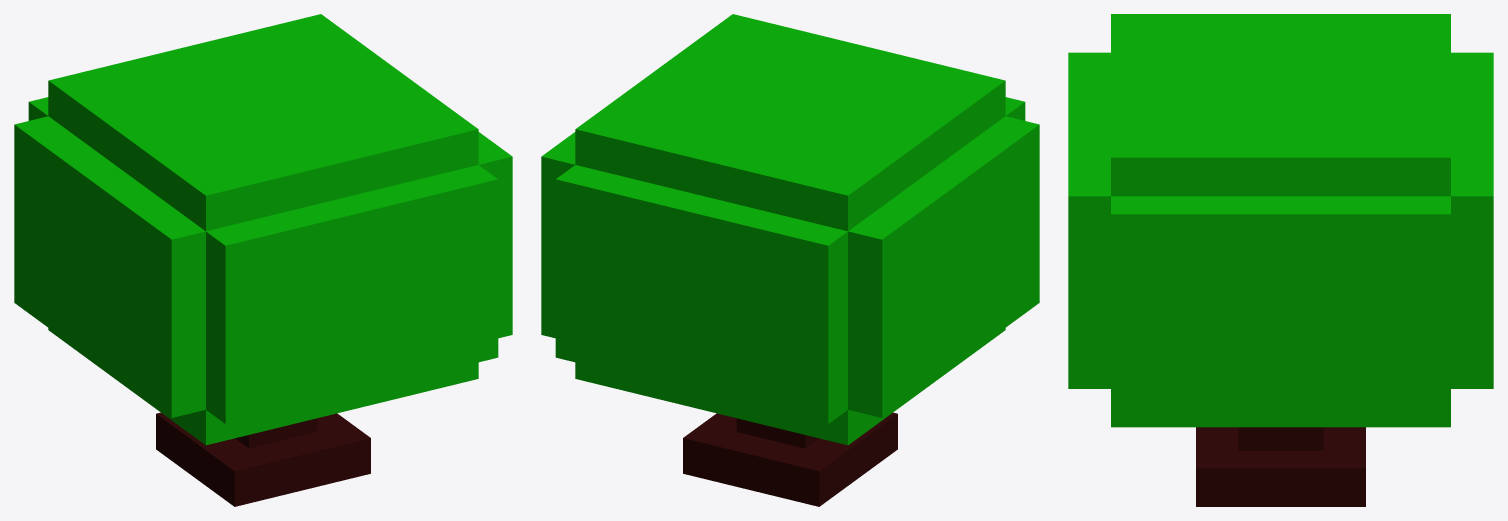
File: Bush_0.fbx
3 renders of one model, left to right at view 1: azimuth 30°, elevation 25°; view 2: azimuth 150°, elevation 25°; view 3: azimuth 270°, elevation 25°, orthographic. The views are drawn at different scales.
Visible parts, largest first — view 1: Bush_0; view 2: Bush_0; view 3: Bush_0.
Boxes of the visible parts, left/top/right/bottom form: Bush_0: left=14, top=14, right=512, bottom=506; Bush_0: left=541, top=14, right=1039, bottom=506; Bush_0: left=1068, top=14, right=1493, bottom=506.
Size of the model in its own units: 1000 by 1000 by 1000.
